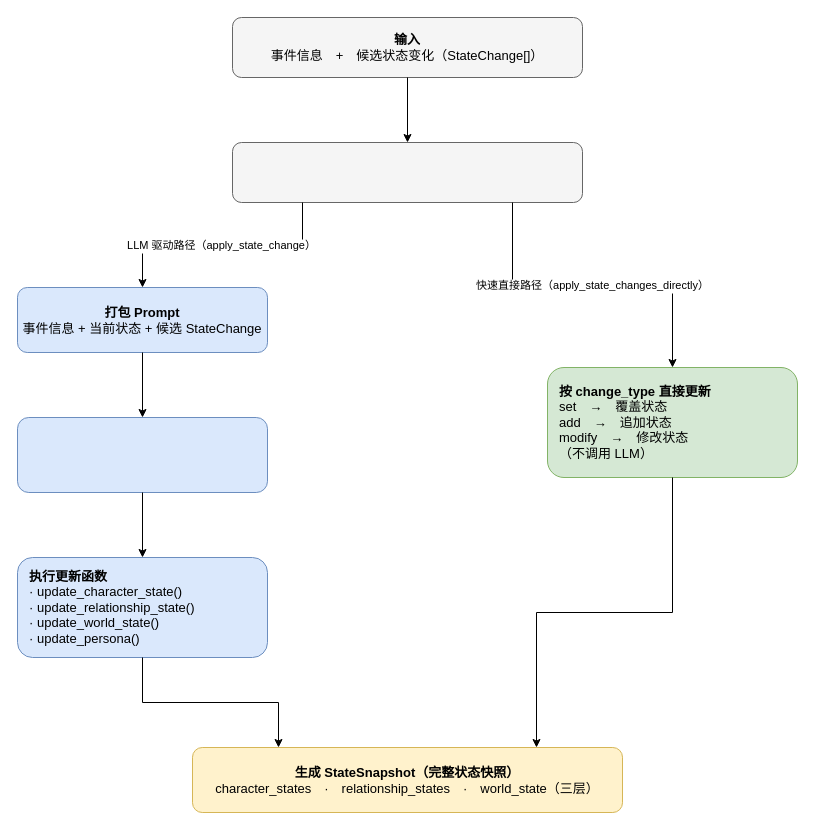
Some shapes in this 815 by 830 pixel diagram are drawn without their labels. The box of each missing label's shape, as (x1, y1, x2, y2) in pixels:
LLM Function Calling LLM 自主选择调用哪些更新函数 解析 tool_calls → 执行函数: (16, 416, 268, 492)
初始化当前状态 从 baseline 或上一个 StateSnapshot 继承: (232, 142, 582, 202)
